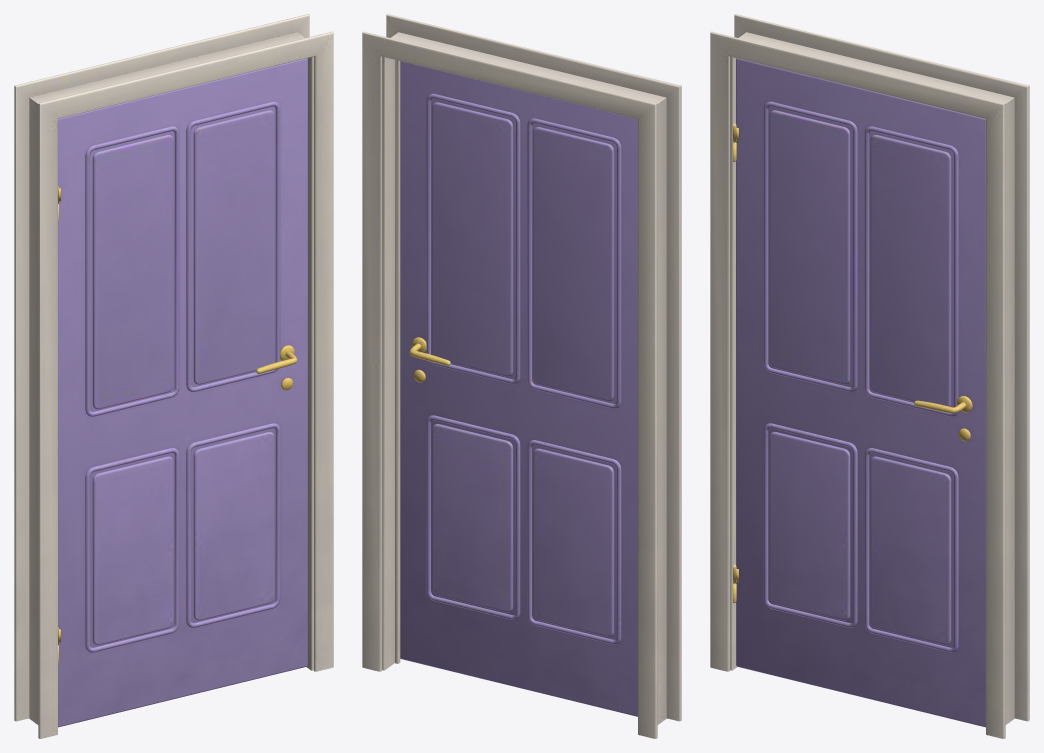
Rendered from door.glb.
The picture shows the model from 3 angles, left to right: view 1: azimuth 30°, elevation 25°; view 2: azimuth 150°, elevation 25°; view 3: azimuth 330°, elevation 25°; orthographic projection.
Visible parts, largest first — view 1: door_leaf, door_body; view 2: door_leaf, door_body; view 3: door_leaf, door_body.
Part boxes in pixels (left/top/right/bottom): door_leaf: left=58, top=58, right=307, bottom=727; door_body: left=14, top=14, right=333, bottom=738; door_leaf: left=400, top=61, right=637, bottom=716; door_body: left=362, top=14, right=681, bottom=738; door_leaf: left=733, top=58, right=985, bottom=727; door_body: left=710, top=14, right=1029, bottom=738.
Size of the model in its own units: 1.01 by 2.07 by 0.1994.
2 materials, 2 textured.
